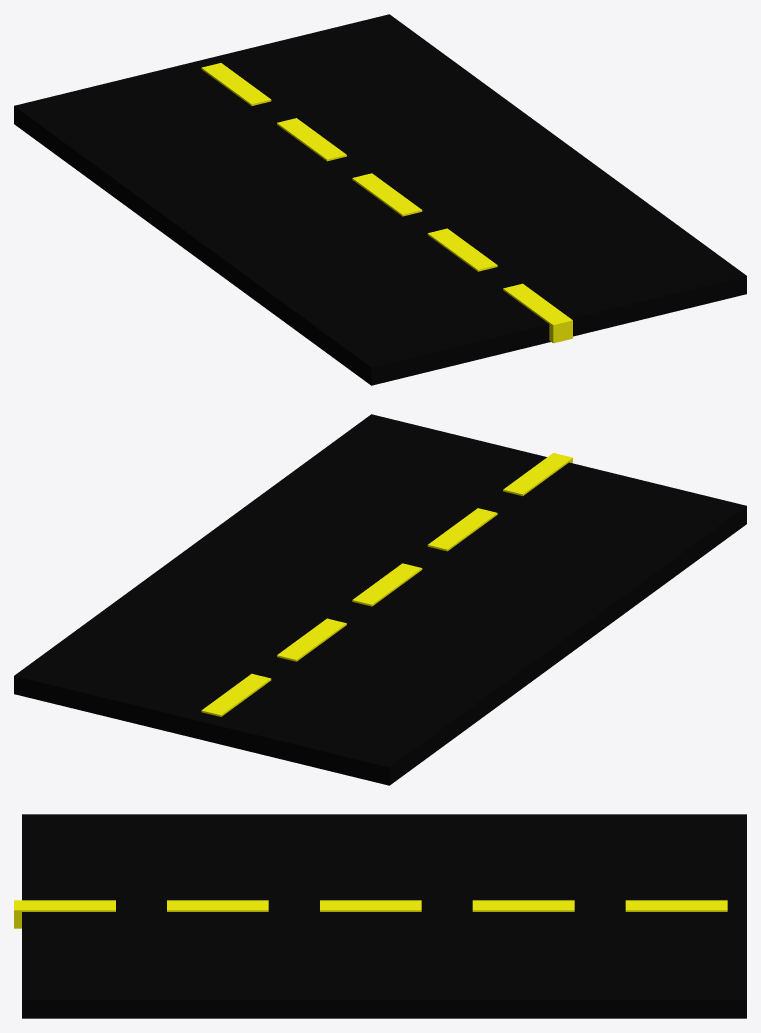
File: Street_v2.fbx
3 renders of one model, top to bottom at view 1: azimuth 30°, elevation 25°; view 2: azimuth 150°, elevation 25°; view 3: azimuth 270°, elevation 25°, orthographic.
Parts seen in each view (by area): view 1: Street; view 2: Street; view 3: Street.
Part boxes in pixels (x1,y1,x2,y2): Street: [14, 14, 746, 385]; Street: [14, 414, 746, 785]; Street: [14, 814, 746, 1018].
Size of the model in its own units: 1724 by 88.17 by 2875.
